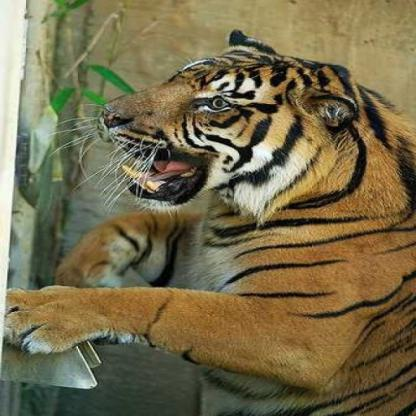Tiger: (4, 25, 415, 416)
